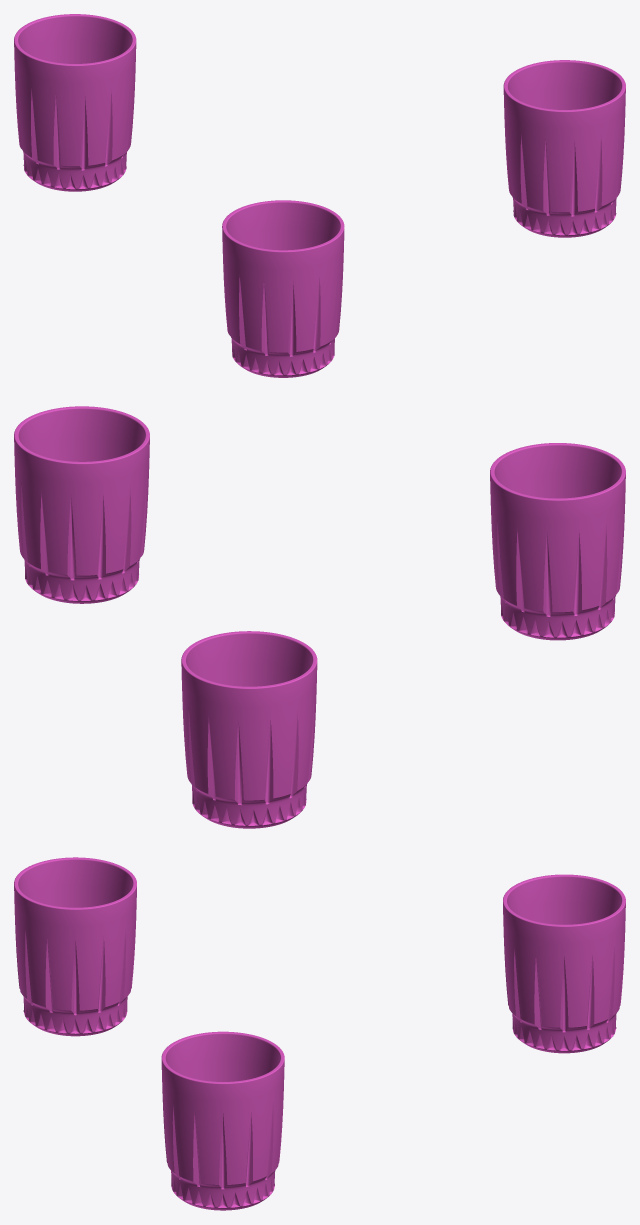
The model's file is glass.obj.
The picture shows the model from 3 angles, top to bottom: view 1: azimuth 30°, elevation 25°; view 2: azimuth 150°, elevation 25°; view 3: azimuth 270°, elevation 25°; orthographic projection. The views are drawn at different scales.
Visible parts, largest first — view 1: glass-obj, glass-obj.002, glass-obj.001; view 2: glass-obj, glass-obj.002, glass-obj.001; view 3: glass-obj, glass-obj.001, glass-obj.002.
Part boxes in pixels (bbox=[...]): glass-obj: bbox=[503, 60, 625, 237]; glass-obj.002: bbox=[14, 14, 136, 191]; glass-obj.001: bbox=[222, 200, 344, 377]; glass-obj: bbox=[14, 406, 149, 603]; glass-obj.002: bbox=[181, 631, 317, 828]; glass-obj.001: bbox=[490, 443, 625, 640]; glass-obj: bbox=[161, 1031, 284, 1210]; glass-obj.001: bbox=[14, 857, 136, 1036]; glass-obj.002: bbox=[503, 874, 625, 1053].
Bounding box in the file's own units: 1.32 × 0.3632 × 1.51.
